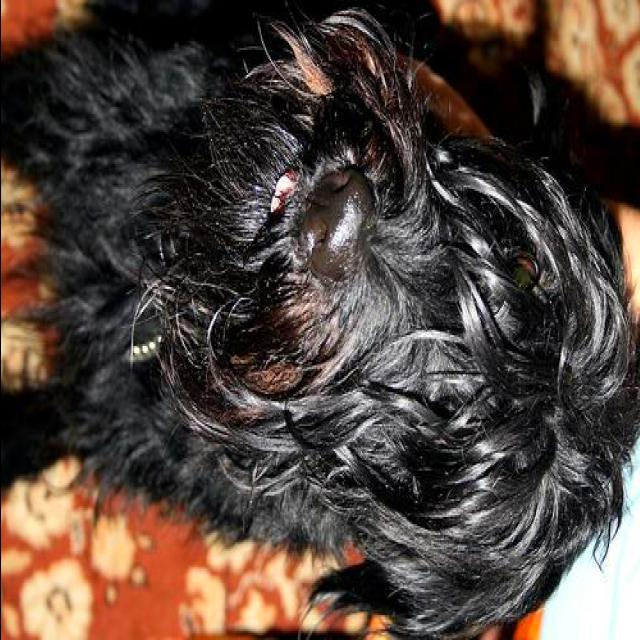standard_schnauzer: (3, 4, 640, 640)
